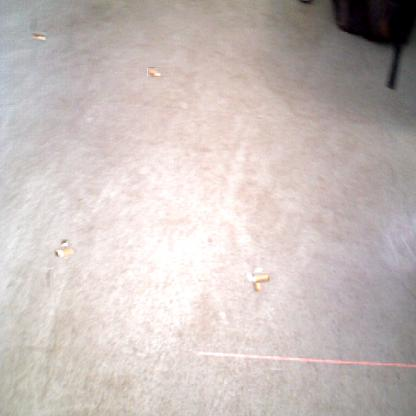dirty: (248, 269, 267, 287), (57, 242, 75, 260), (30, 32, 46, 42), (147, 67, 162, 77)
mark: (45, 268, 53, 291), (208, 236, 216, 245)
